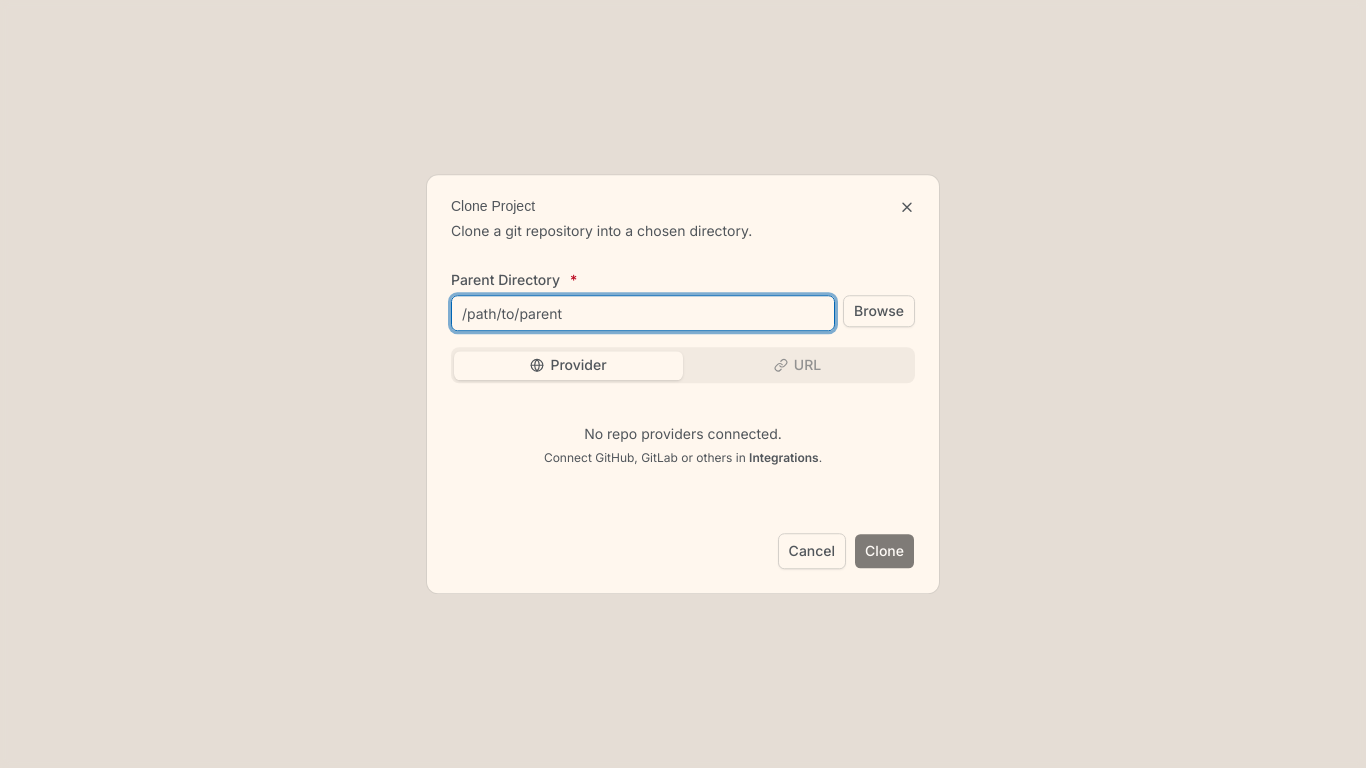
Test: CloneProjectDialog › shows Git URL input when URL tab clicked
This screenshot has width=1366, height=768.
Step 1. Click the tab "URL" → (798, 365), box [683,351,912,380]
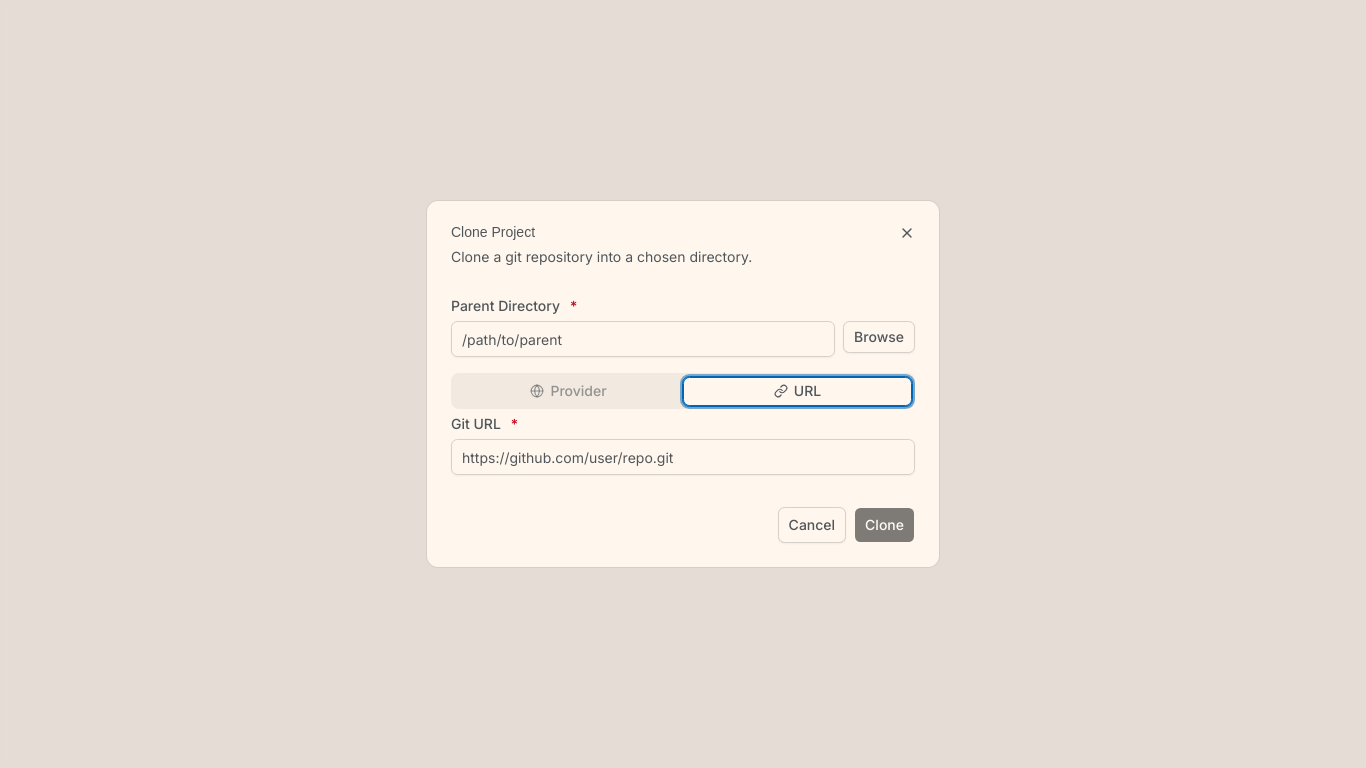
Result: the field labelled "Git URL *" is shown at [451,439,915,475]
